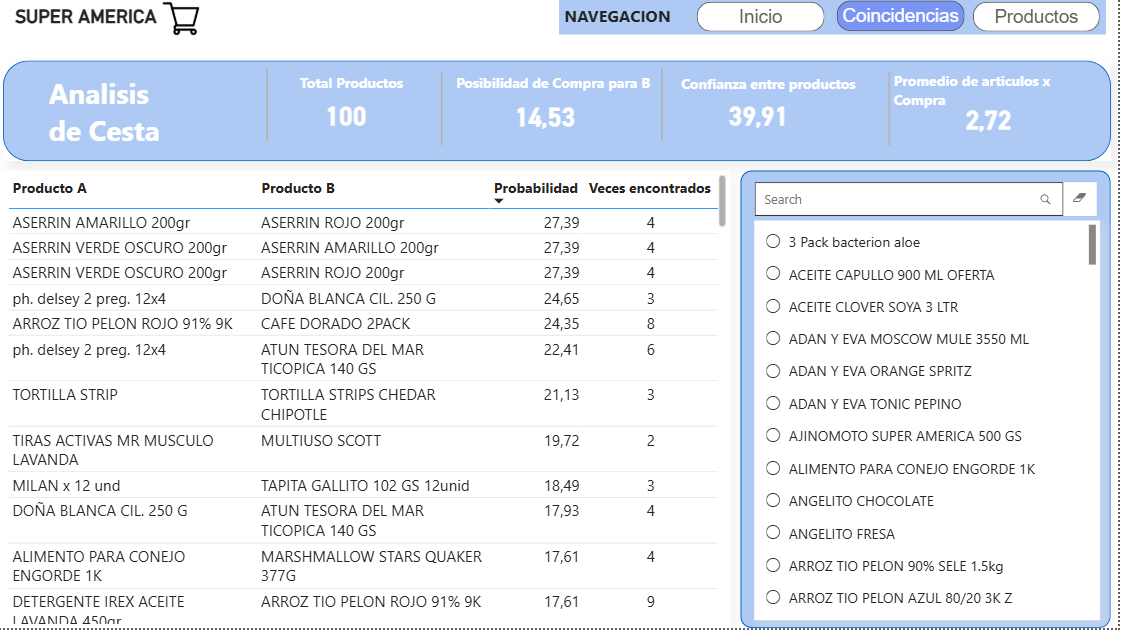

The page's visual inventory and layout, read from the dashboard file:
{"tool":"powerbi","page":{"name":"Coincidencias","canvas":[1280,720],"ordinal":1},"visuals":[{"type":"textbox","box":[641,1,625,40],"z":0},{"type":"actionButton","title":"Coincidencias","box":[959,3,146,35],"z":1000},{"type":"actionButton","title":"Coincidencias","box":[799,4,146,34],"z":2000},{"type":"actionButton","title":"Coincidencias","box":[1114,4,145,34],"z":3000},{"type":"shape","box":[6.2,71.2,1266.2,115],"z":4000},{"type":"textbox","box":[13.8,3.8,611.2,41.2],"z":5000},{"type":"image","box":[171.2,2.5,75,41.2],"z":6000},{"type":"textbox","box":[53.5,81.2,178.2,95.3],"z":7000},{"type":"shape","box":[138.6,80.1,338,84],"z":8000},{"type":"textbox","box":[340.6,80.1,178,42],"z":9000},{"type":"card","fields":{"Values":["CountNonNull(Top_100_Reglas_Ultra.antecedente)"]},"box":[308.3,96.7,178.3,73.3],"z":10000},{"type":"shape","box":[338,84.6,337.1,84.3],"z":11000},{"type":"textbox","box":[518.3,80,240,48.3],"z":12000},{"type":"card","fields":{"Values":["Avg(Top_100_Reglas_Ultra.lift)"]},"box":[536.7,98.3,176.7,71.7],"z":13000},{"type":"textbox","box":[775.7,81.1,210,47.1],"z":14000},{"type":"card","fields":{"Values":["Avg(Top_100_Reglas_Ultra.confianza)"]},"box":[780,96.7,178.3,73.3],"z":15000},{"type":"shape","box":[696.7,80,123.3,83.3],"z":16000},{"type":"tableEx","fields":{"Values":["Top_100_Reglas_Ultra.antecedente","Top_100_Reglas_Ultra.consecuente","Top_100_Reglas_Ultra.lift","Sum(Top_100_Reglas_Ultra.conteo)"]},"box":[5.7,197.1,831.4,522.9],"z":17000},{"type":"shape","box":[848.6,197.1,422.9,522.9],"z":18000},{"type":"listSlicer","title":"Buscar Producto","fields":{"Values":["Productos_Reglas.Producto"]},"box":[864,254.7,395.3,456.7],"z":19000},{"type":"textFilter25A4896A83E0487089E2B90C9AE57C8A","fields":{"field":["VentasLimpias1.Descripcion"]},"box":[860,206,400,48.7],"z":20000},{"type":"textbox","box":[1018.6,78.6,248.6,55.7],"z":21000},{"type":"card","fields":{"Values":["VentasLimpias1.Articulo promedio por compra"]},"box":[1042.9,101.4,178.6,72.9],"z":22000},{"type":"shape","box":[850,84.3,337.1,84.3],"z":23000}]}

Visuals, with their boxes in screenshot pixels (x1, y1, x2, y2), scaled from the page's 1280x720 canvas onto the 1121x632 screenshot:
textbox: {"left": 561, "top": 1, "right": 1109, "bottom": 36}
"Coincidencias" actionButton: {"left": 840, "top": 3, "right": 968, "bottom": 33}
"Coincidencias" actionButton: {"left": 700, "top": 4, "right": 828, "bottom": 33}
"Coincidencias" actionButton: {"left": 976, "top": 4, "right": 1103, "bottom": 33}
shape: {"left": 5, "top": 62, "right": 1114, "bottom": 163}
textbox: {"left": 12, "top": 3, "right": 547, "bottom": 40}
image: {"left": 150, "top": 2, "right": 216, "bottom": 38}
textbox: {"left": 47, "top": 71, "right": 203, "bottom": 155}
shape: {"left": 121, "top": 70, "right": 417, "bottom": 144}
textbox: {"left": 298, "top": 70, "right": 454, "bottom": 107}
card - CountNonNull(Top_100_Reglas_Ultra.antecedente): {"left": 270, "top": 85, "right": 426, "bottom": 149}
shape: {"left": 296, "top": 74, "right": 591, "bottom": 148}
textbox: {"left": 454, "top": 70, "right": 664, "bottom": 113}
card - Avg(Top_100_Reglas_Ultra.lift): {"left": 470, "top": 86, "right": 625, "bottom": 149}
textbox: {"left": 679, "top": 71, "right": 863, "bottom": 113}
card - Avg(Top_100_Reglas_Ultra.confianza): {"left": 683, "top": 85, "right": 839, "bottom": 149}
shape: {"left": 610, "top": 70, "right": 718, "bottom": 143}
tableEx - Top_100_Reglas_Ultra.antecedente x Top_100_Reglas_Ultra.consecuente: {"left": 5, "top": 173, "right": 733, "bottom": 631}
shape: {"left": 743, "top": 173, "right": 1114, "bottom": 631}
"Buscar Producto" listSlicer: {"left": 757, "top": 224, "right": 1103, "bottom": 624}
textFilter25A4896A83E0487089E2B90C9AE57C8A - VentasLimpias1.Descripcion: {"left": 753, "top": 181, "right": 1103, "bottom": 224}
textbox: {"left": 892, "top": 69, "right": 1110, "bottom": 118}
card - VentasLimpias1.Articulo promedio por compra: {"left": 913, "top": 89, "right": 1070, "bottom": 153}
shape: {"left": 744, "top": 74, "right": 1040, "bottom": 148}
